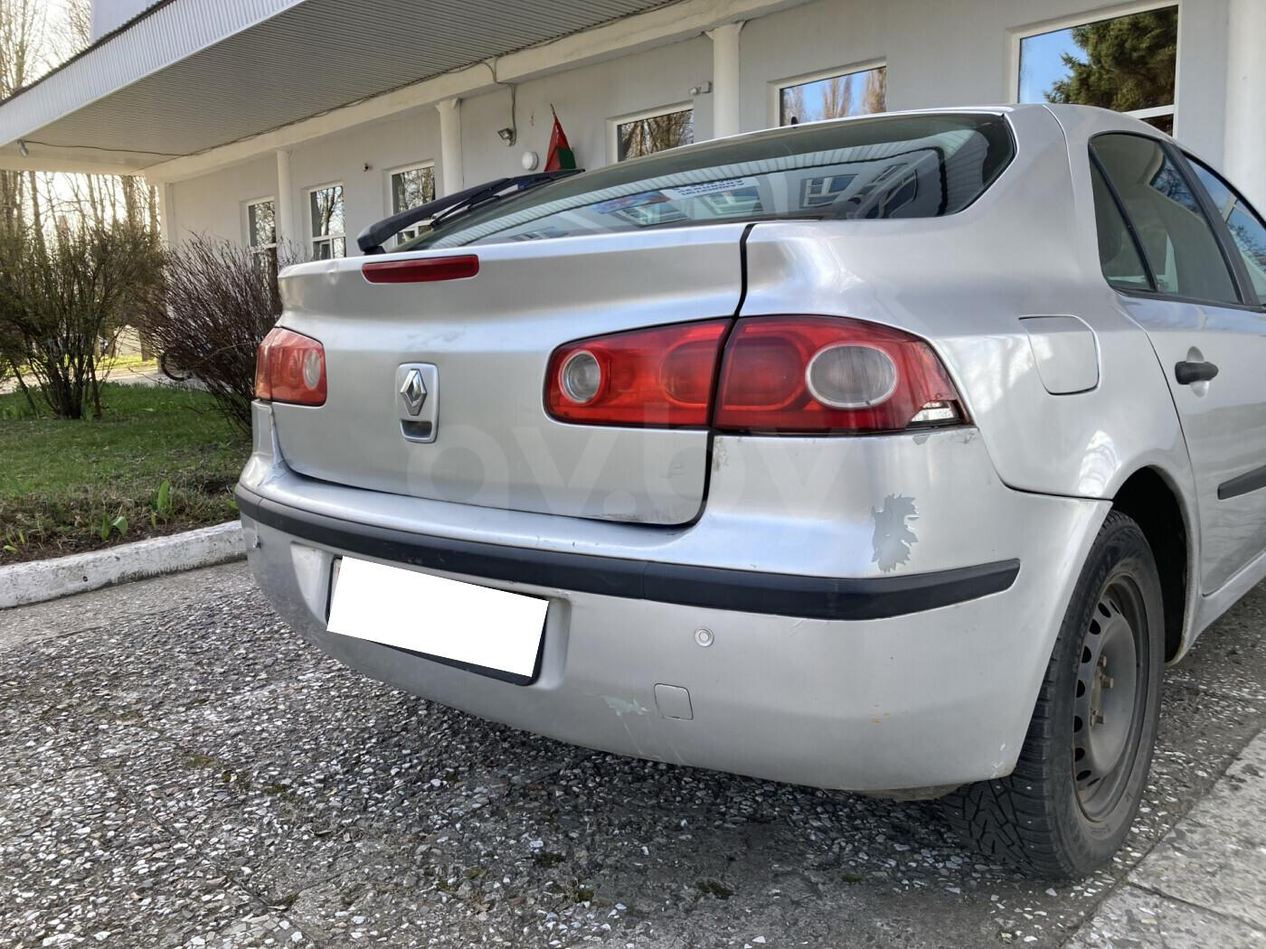Laguna_2005-2007: (222, 88, 1266, 887)
